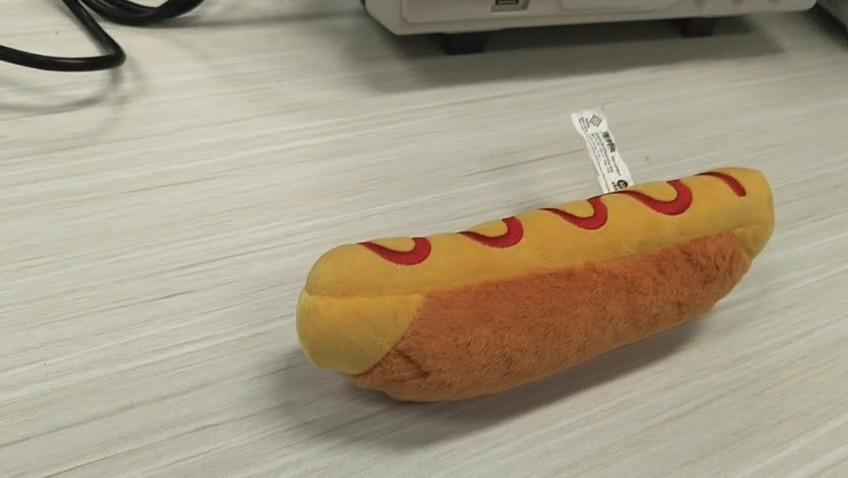hotdog: (294, 165, 775, 403)
